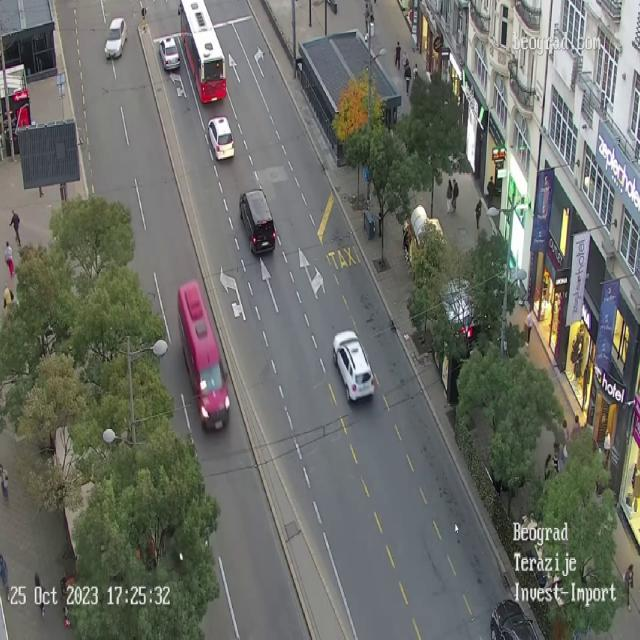bus: (177, 280, 230, 432), (179, 0, 226, 103)
car: (332, 330, 375, 403), (239, 188, 276, 255), (490, 598, 539, 640), (207, 116, 235, 161), (104, 17, 127, 59), (159, 36, 180, 71)
